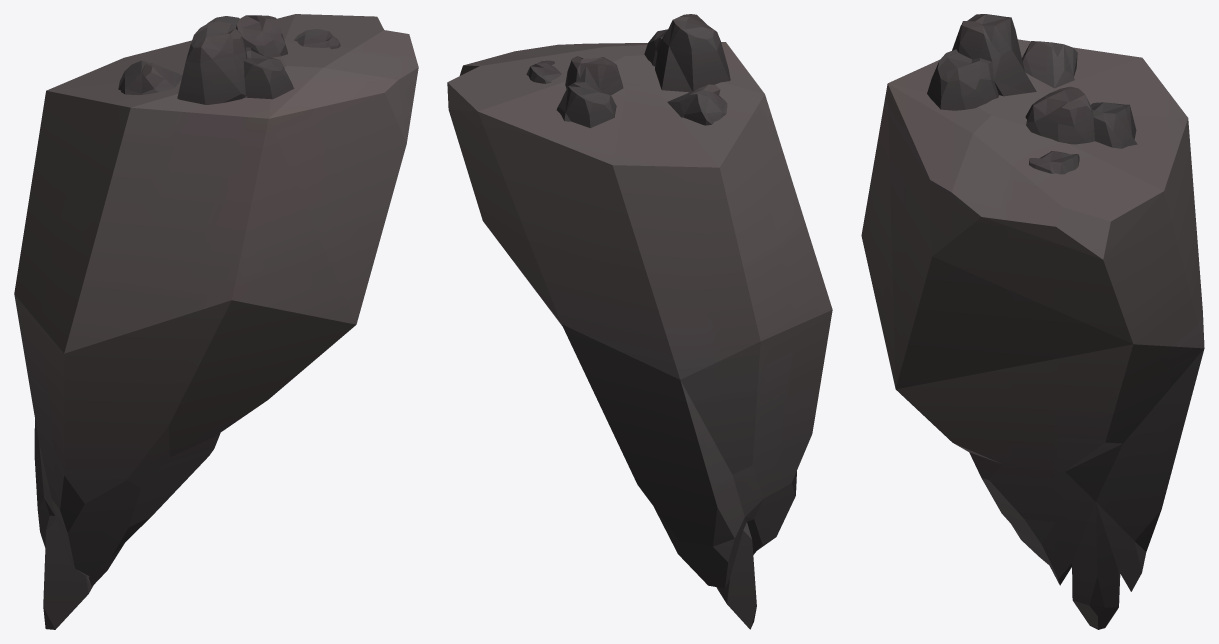
The model's file is Island_4.fbx.
3 renders of one model, left to right at view 1: azimuth 30°, elevation 25°; view 2: azimuth 150°, elevation 25°; view 3: azimuth 270°, elevation 25°, orthographic. The views are drawn at different scales.
Visible parts, largest first — view 1: Island_4; view 2: Island_4; view 3: Island_4.
Boxes of the visible parts, x1,y1,x2,y2 form: Island_4: (14,14,418,629); Island_4: (447,14,832,629); Island_4: (861,14,1204,629).
Bounding box in the file's own units: 3.77 × 5.8 × 2.66.
